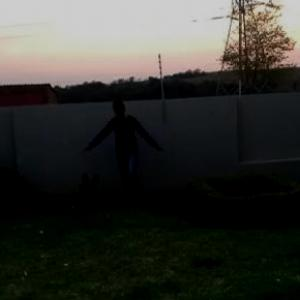land: (85, 97, 165, 210)
